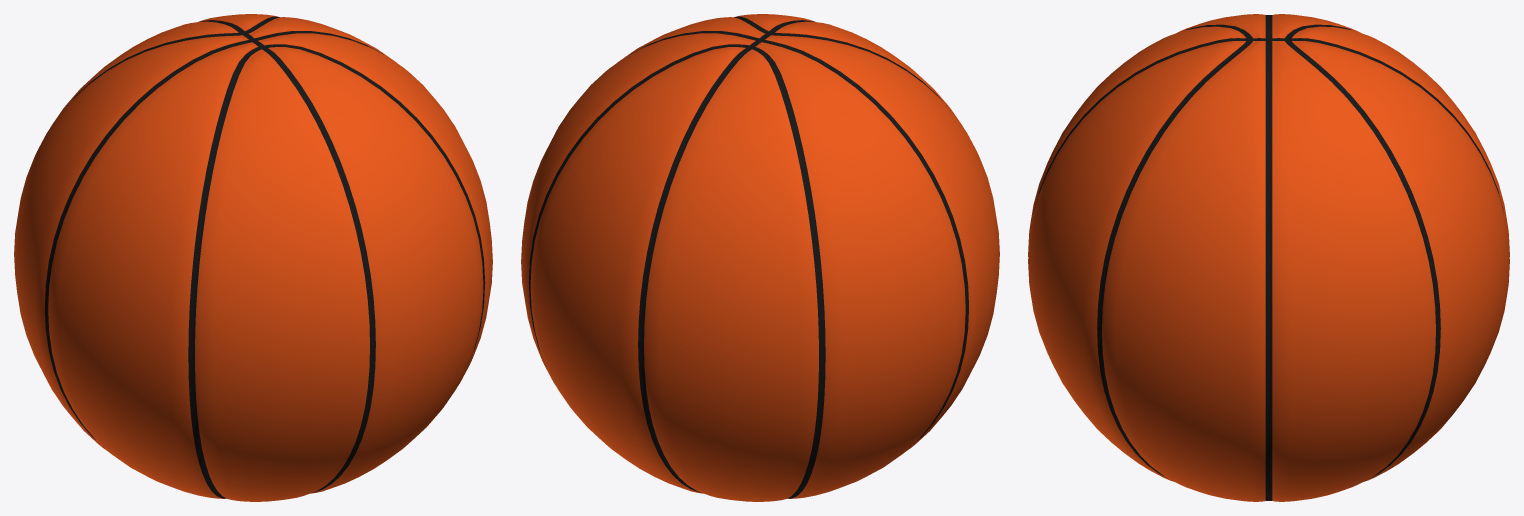
The model's file is Basketball.fbx.
3 renders of one model, left to right at view 1: azimuth 30°, elevation 25°; view 2: azimuth 150°, elevation 25°; view 3: azimuth 270°, elevation 25°, orthographic.
Parts seen in each view (by area): view 1: Sphere; view 2: Sphere; view 3: Sphere.
Part boxes in pixels (<box>): Sphere: <box>14,14,492,501</box>; Sphere: <box>521,14,999,501</box>; Sphere: <box>1028,14,1509,501</box>.
Bounding box in the file's own units: 195 × 196 × 195.
